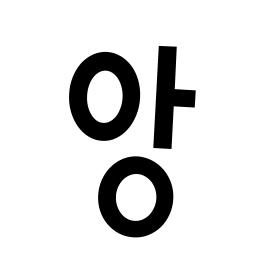Gaji: (149, 77, 189, 120)
